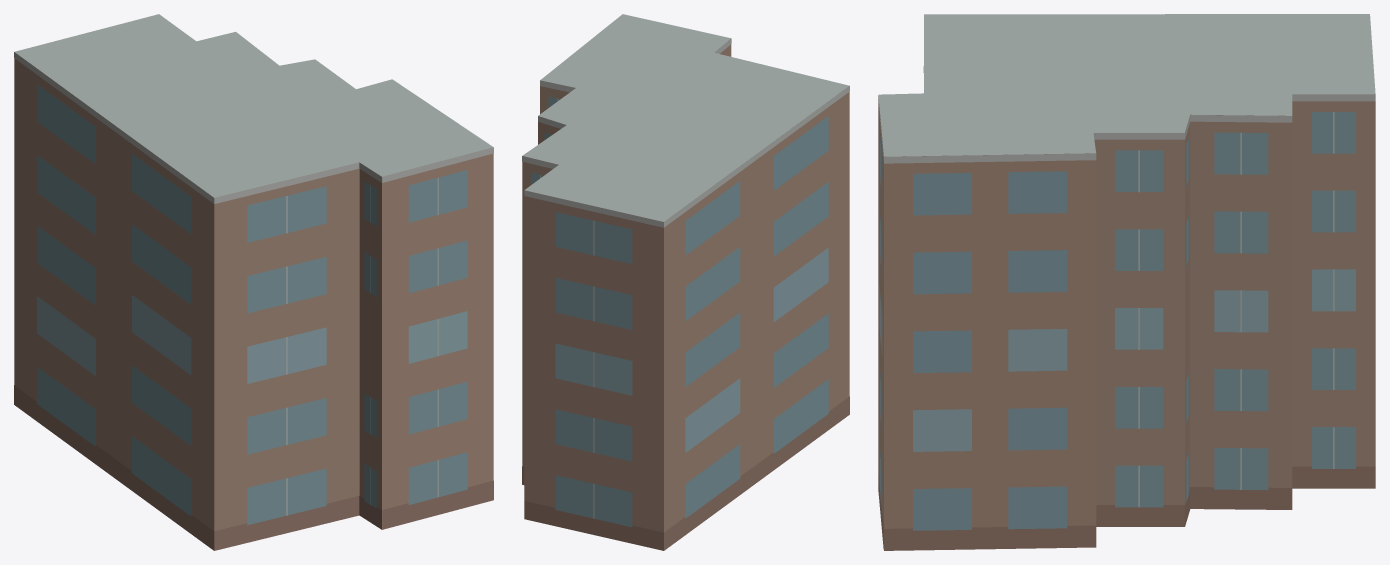
The model's file is survey-upis-32767131.glb.
3 views of the same model, side by side, from view 1: azimuth 30°, elevation 25°; view 2: azimuth 150°, elevation 25°; view 3: azimuth 270°, elevation 25° (orthographic). The views are drawn at different scales.
Parts seen in each view (by area): view 1: survey-upis-32767131.tmp; view 2: survey-upis-32767131.tmp; view 3: survey-upis-32767131.tmp.
Part boxes in pixels (<box>): survey-upis-32767131.tmp: <box>14,14,493,550</box>; survey-upis-32767131.tmp: <box>522,14,849,550</box>; survey-upis-32767131.tmp: <box>878,14,1375,550</box>.
Size of the model in its own units: 10.84 by 13.95 by 15.96.
